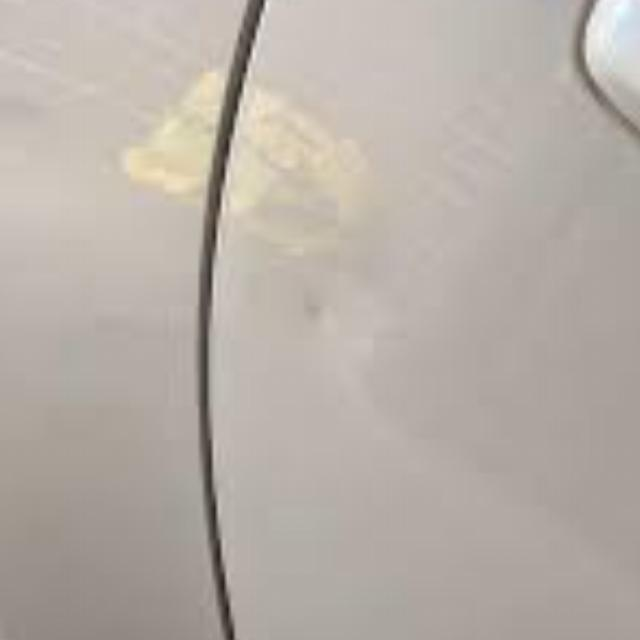dents: (280, 268, 390, 362)
